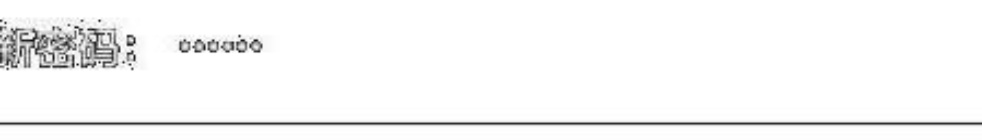EditText: (1, 1, 981, 139)
